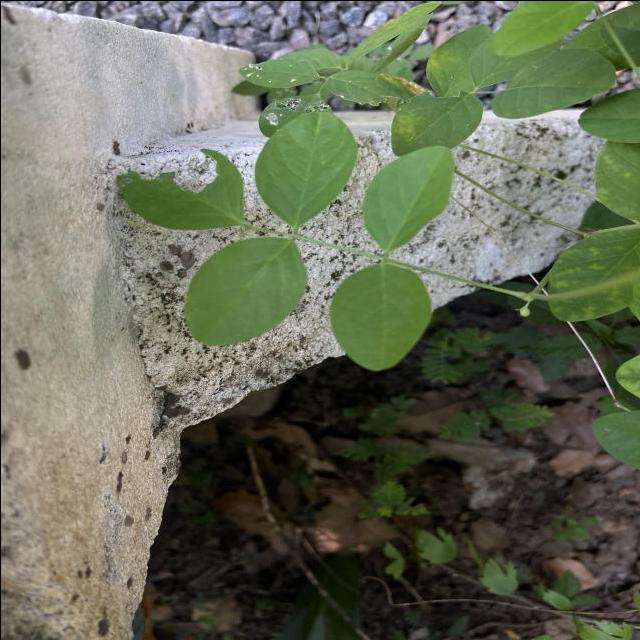Clitoria ternatea: (181, 235, 308, 347), (252, 104, 358, 228), (328, 258, 432, 373), (360, 143, 456, 250)
